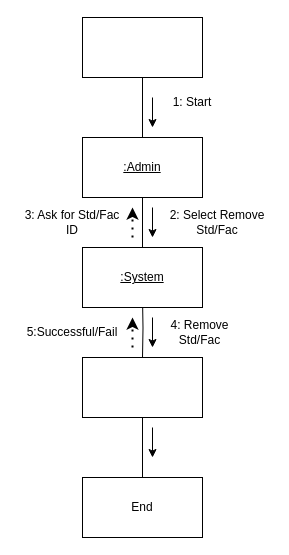
Some shapes in this 289 by 555 pixel diagram are drawn without their labels. The centre of each missing label's shape, as x and y in pixels:
":DB" goes at point 142,387.
"Initialization" goes at point 142,47.
